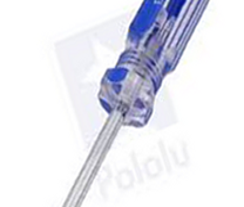Screwdriver: (52, 2, 214, 207)
